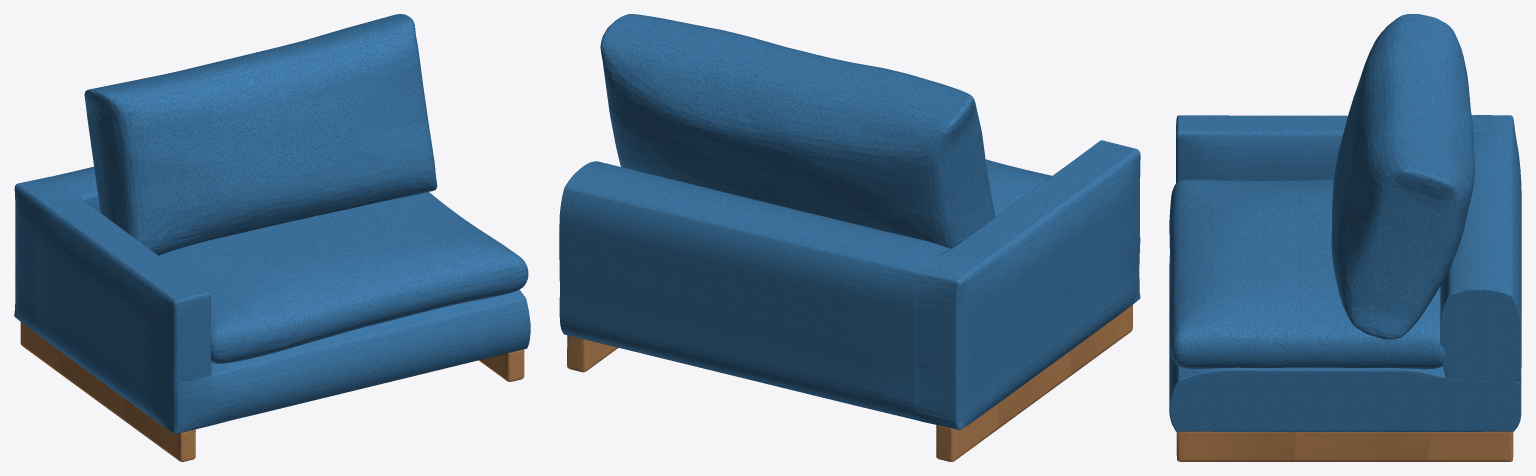
Rendered from couch.gltf.
The picture shows the model from 3 angles, left to right: view 1: azimuth 30°, elevation 25°; view 2: azimuth 150°, elevation 25°; view 3: azimuth 270°, elevation 25°; orthographic projection. The views are drawn at different scales.
Visible parts, largest first — view 1: Cube.027, Cube.028, Cube.035, Cube.025; view 2: Cube.028, Cube.027, Cube.025, Cube.035; view 3: Cube.028, Cube.027, Cube.035, Cube.025.
Boxes of the visible parts, left/top/right/bottom form: Cube.027: left=84, top=14, right=437, bottom=255; Cube.028: left=14, top=166, right=530, bottom=433; Cube.035: left=159, top=192, right=528, bottom=363; Cube.025: left=20, top=322, right=524, bottom=461; Cube.028: left=559, top=140, right=1140, bottom=430; Cube.027: left=600, top=14, right=995, bottom=248; Cube.025: left=567, top=305, right=1132, bottom=461; Cube.035: left=985, top=159, right=1051, bottom=216; Cube.028: left=1169, top=115, right=1521, bottom=431; Cube.027: left=1331, top=14, right=1474, bottom=339; Cube.035: left=1169, top=179, right=1445, bottom=369; Cube.025: left=1176, top=431, right=1513, bottom=461.
Bounding box in the file's own units: 0.9906 × 0.7362 × 0.8054.
Materials: 2 (2 with a texture image).
